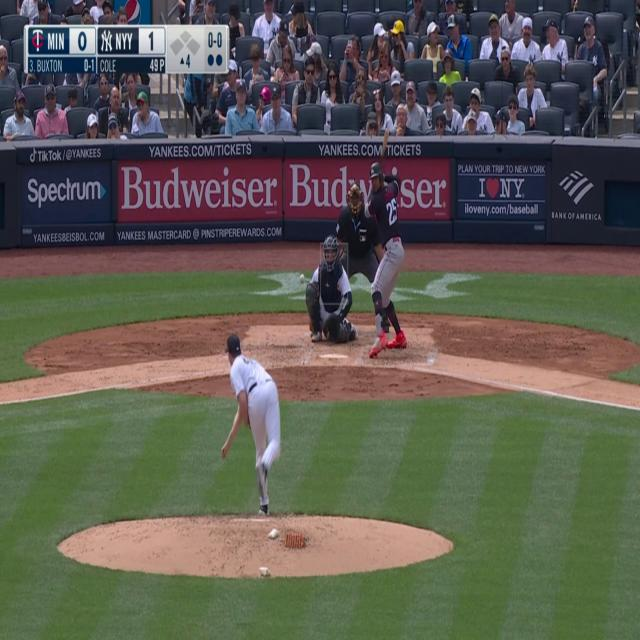baseball: (299, 272, 306, 285)
